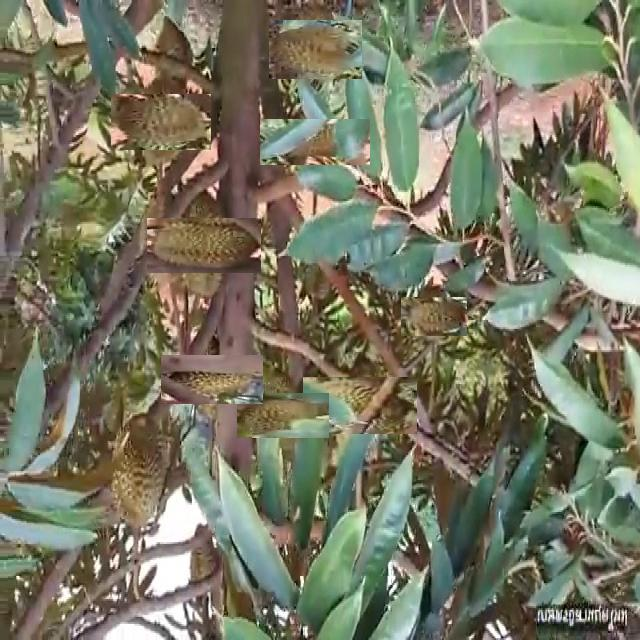durian: (109, 411, 170, 533), (317, 363, 403, 449), (161, 204, 247, 288), (122, 82, 200, 161), (276, 102, 354, 181), (173, 341, 250, 418), (277, 11, 354, 87), (138, 190, 186, 295), (248, 381, 317, 450), (408, 291, 461, 343)
